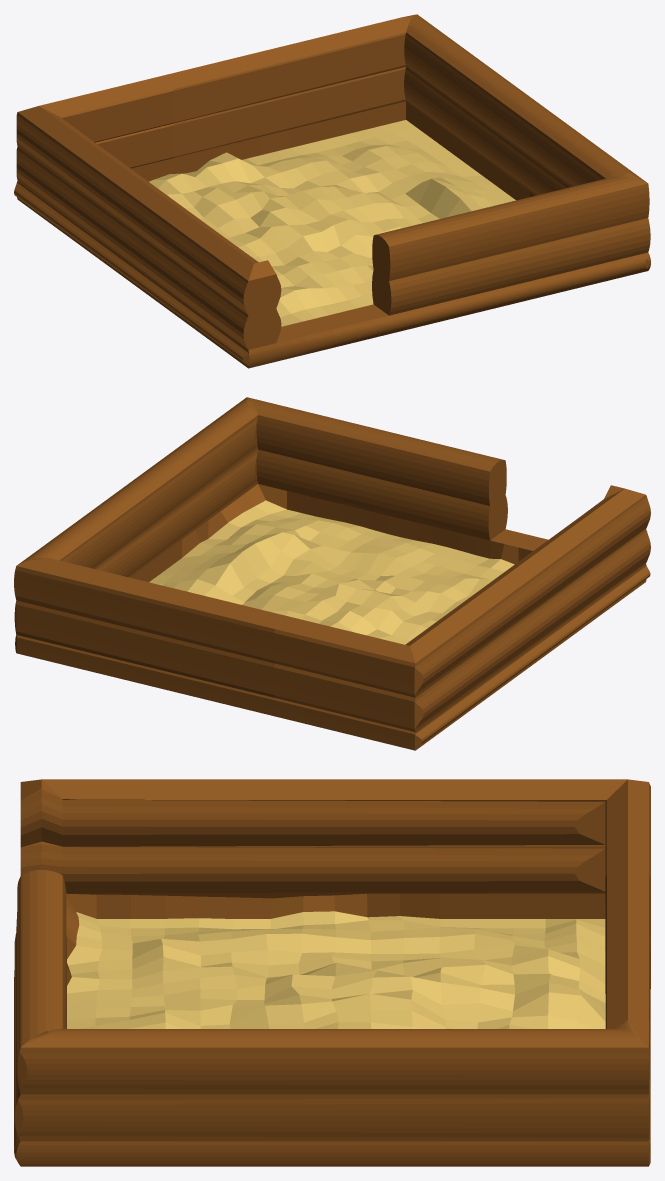
The model's file is Sandbak.fbx.
3 views of the same model, one above another, from view 1: azimuth 30°, elevation 25°; view 2: azimuth 150°, elevation 25°; view 3: azimuth 270°, elevation 25° (orthographic). The views are drawn at different scales.
Parts seen in each view (by area): view 1: Plane; view 2: Plane; view 3: Plane.
Boxes of the visible parts, <box> form: Plane: <box>14,14,650,368</box>; Plane: <box>14,397,650,750</box>; Plane: <box>14,779,650,1166</box>.
Size of the model in its own units: 1015 by 237 by 1010.
